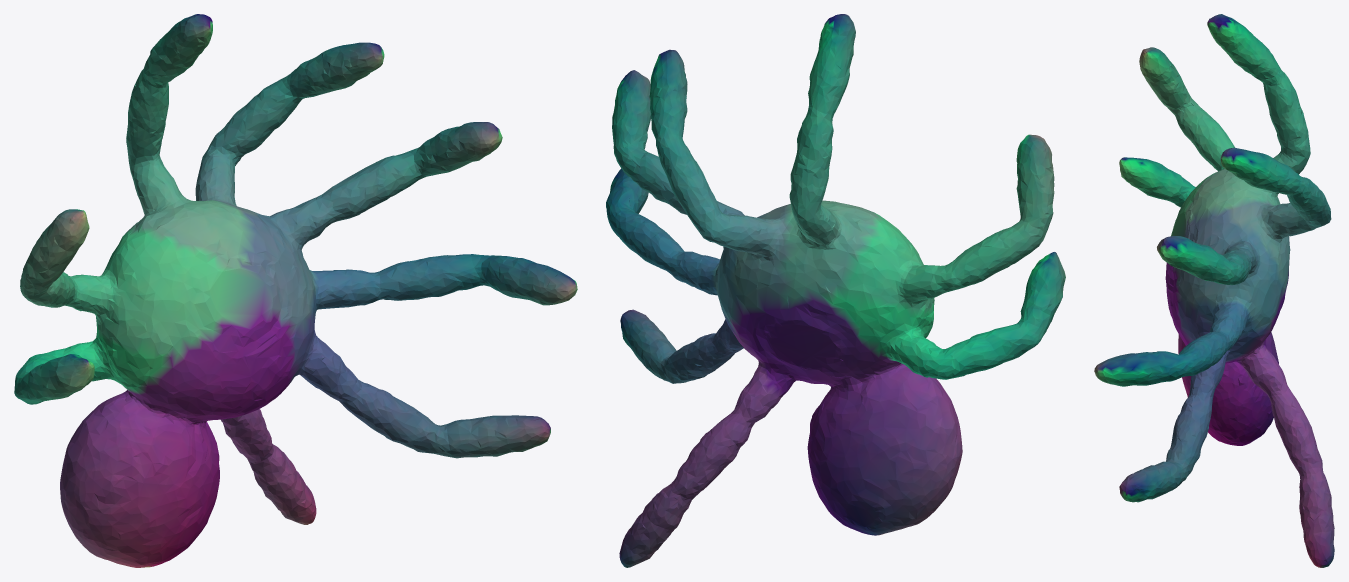
File: spider-3.off.obj
3 views of the same model, side by side, from view 1: azimuth 30°, elevation 25°; view 2: azimuth 150°, elevation 25°; view 3: azimuth 270°, elevation 25° (orthographic). The views are drawn at different scales.
Bounding box in the file's own units: 1.45 × 1.62 × 0.7275.
